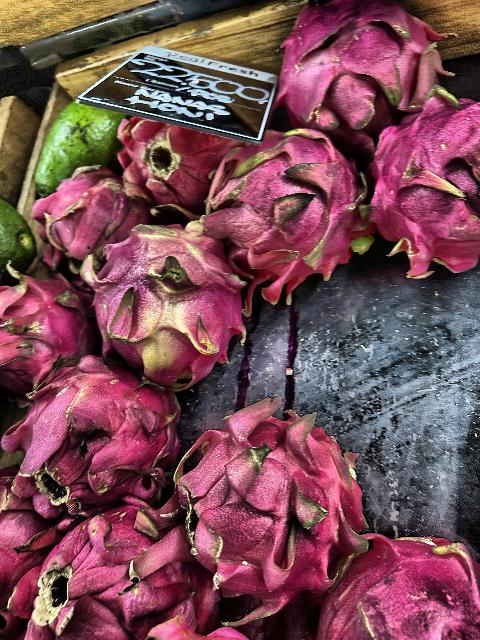buah-naga-belum-matang: (83, 227, 255, 385)
buah-naga-matang: (170, 402, 366, 610), (195, 128, 375, 294), (4, 357, 184, 509), (17, 516, 228, 640), (356, 90, 480, 274), (270, 0, 442, 130), (324, 534, 480, 640), (122, 100, 234, 214), (1, 271, 96, 385), (30, 168, 152, 256)
